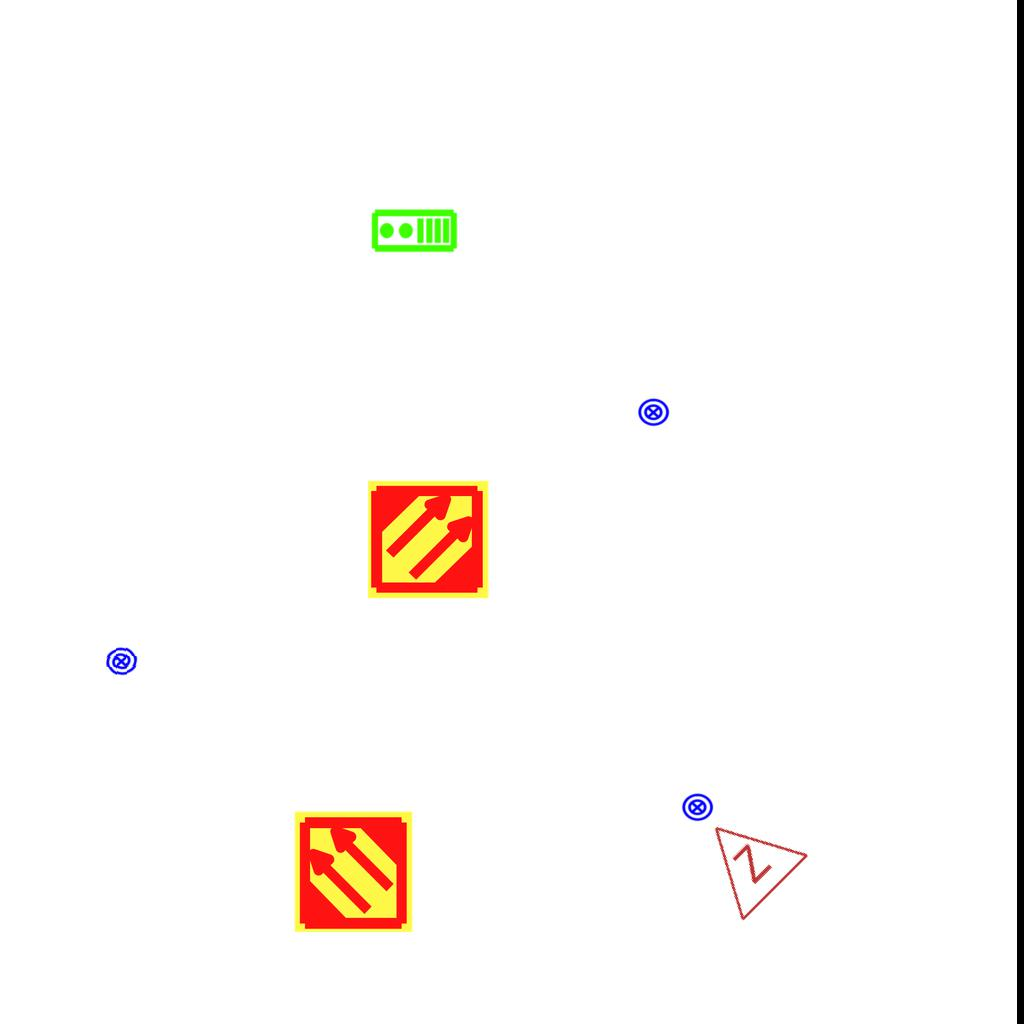ASR_Ansaugrauchmelder: (366, 477, 491, 602), (291, 809, 416, 934)
Gegensprechanlage_mit_Video: (370, 208, 458, 255)
Taster_beleuchtet: (103, 643, 140, 680), (637, 396, 670, 429), (681, 791, 714, 824)
Zimmersignalleuchte: (674, 788, 816, 930)
